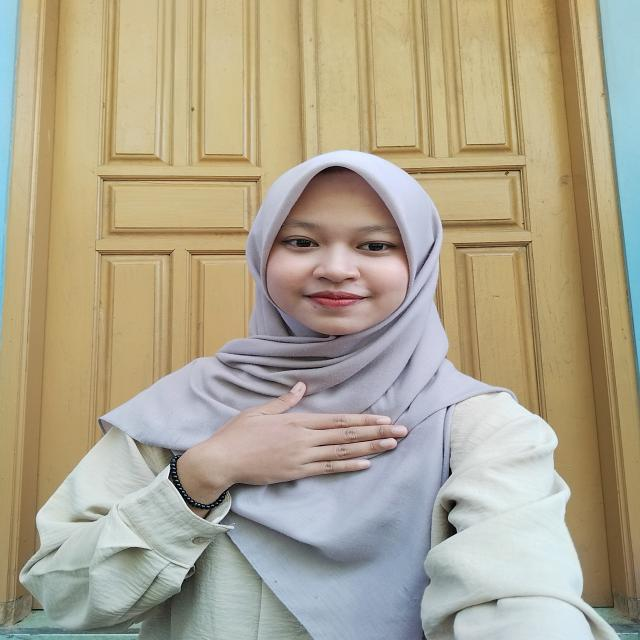tolong: (164, 375, 412, 516)
